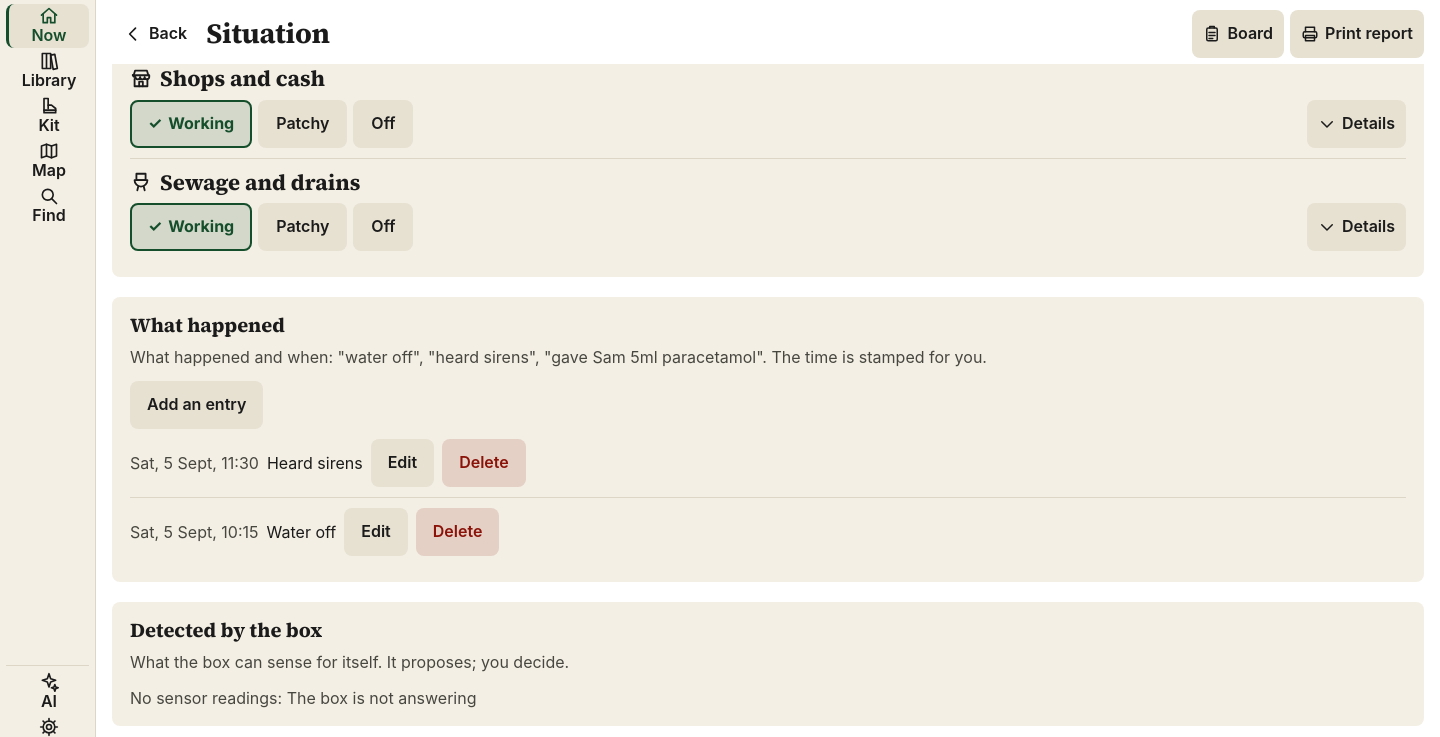
Test: The event log under the situation sheet › puts the form away again on Cancel
(page scrolled)
Click the button "Add an entry": (197, 405) left=130, top=381, right=263, bottom=429
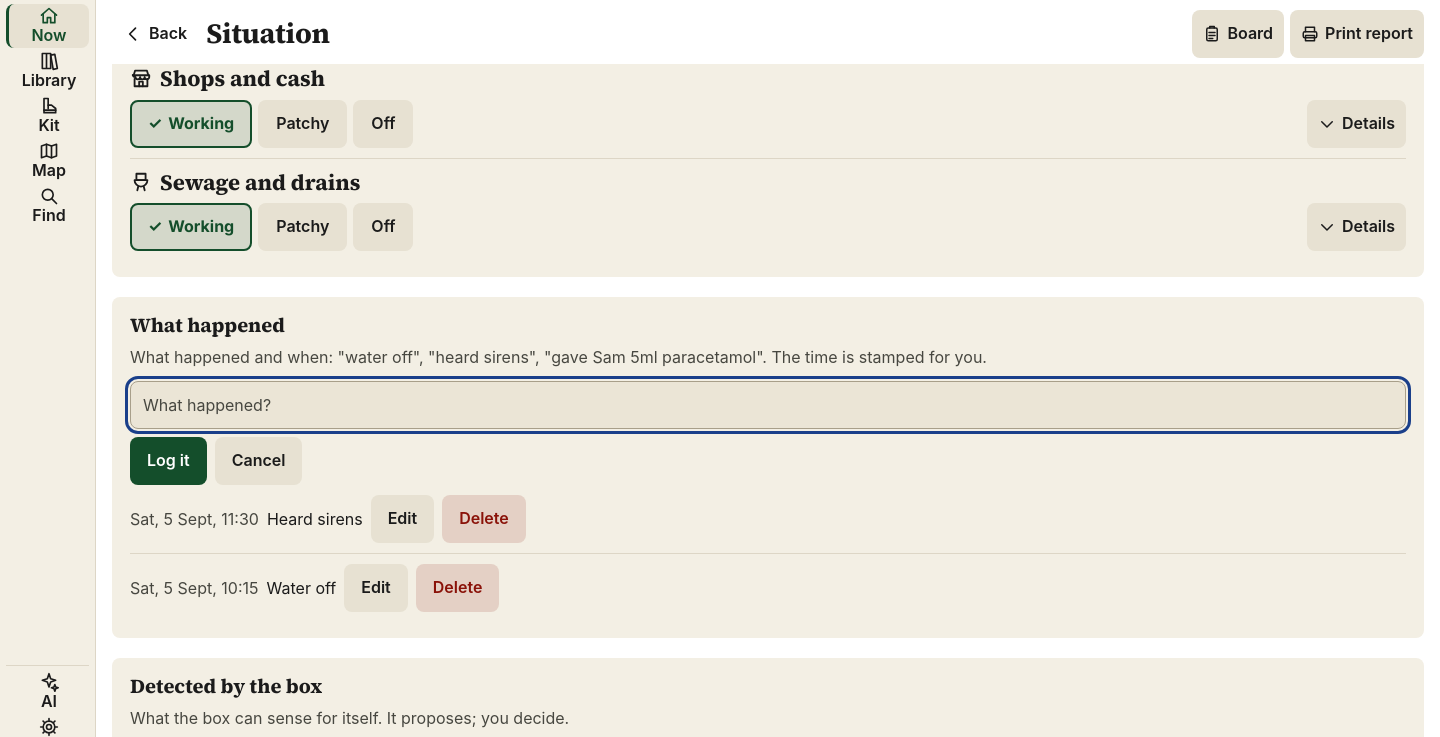
Click the button "Cancel": (259, 461) left=215, top=437, right=302, bottom=485
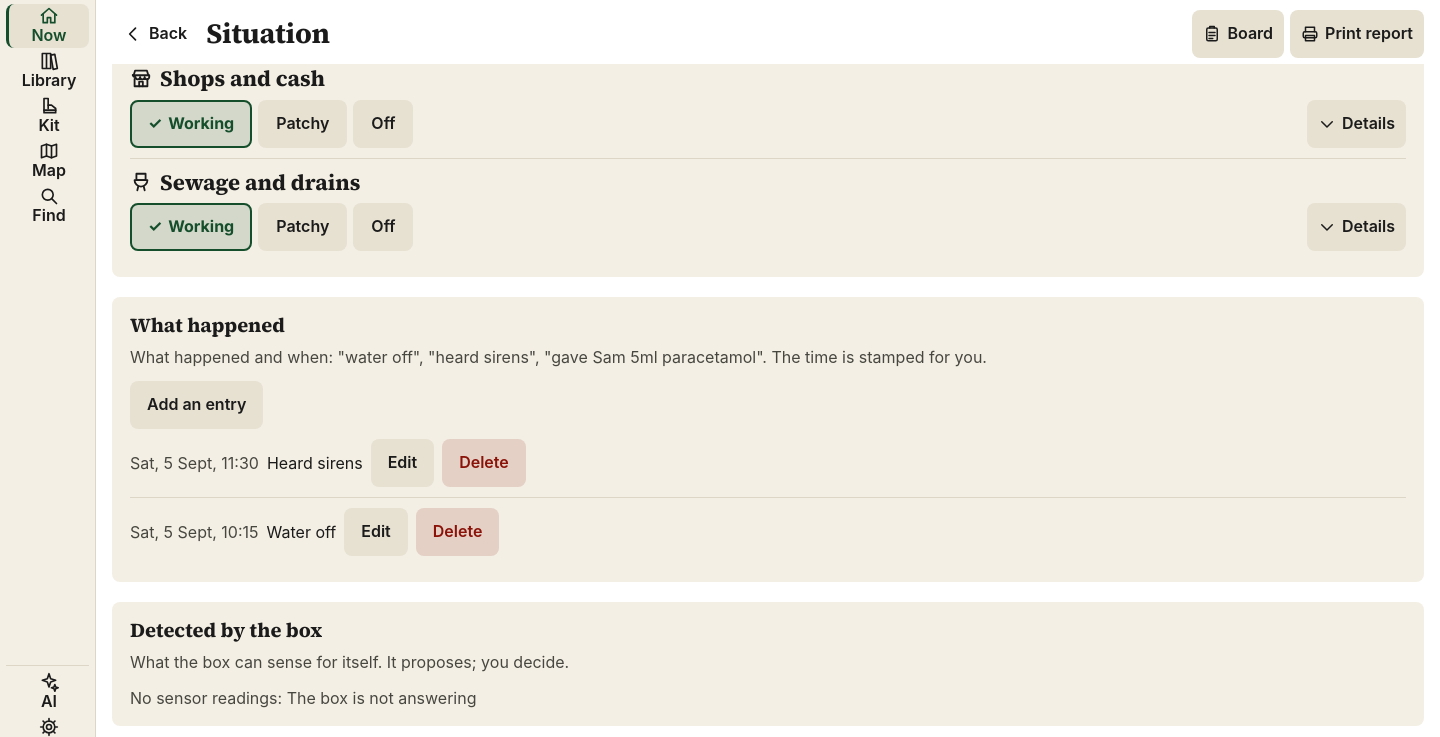
Check: the button "Add an entry" is shown, box left=130, top=381, right=263, bottom=429
